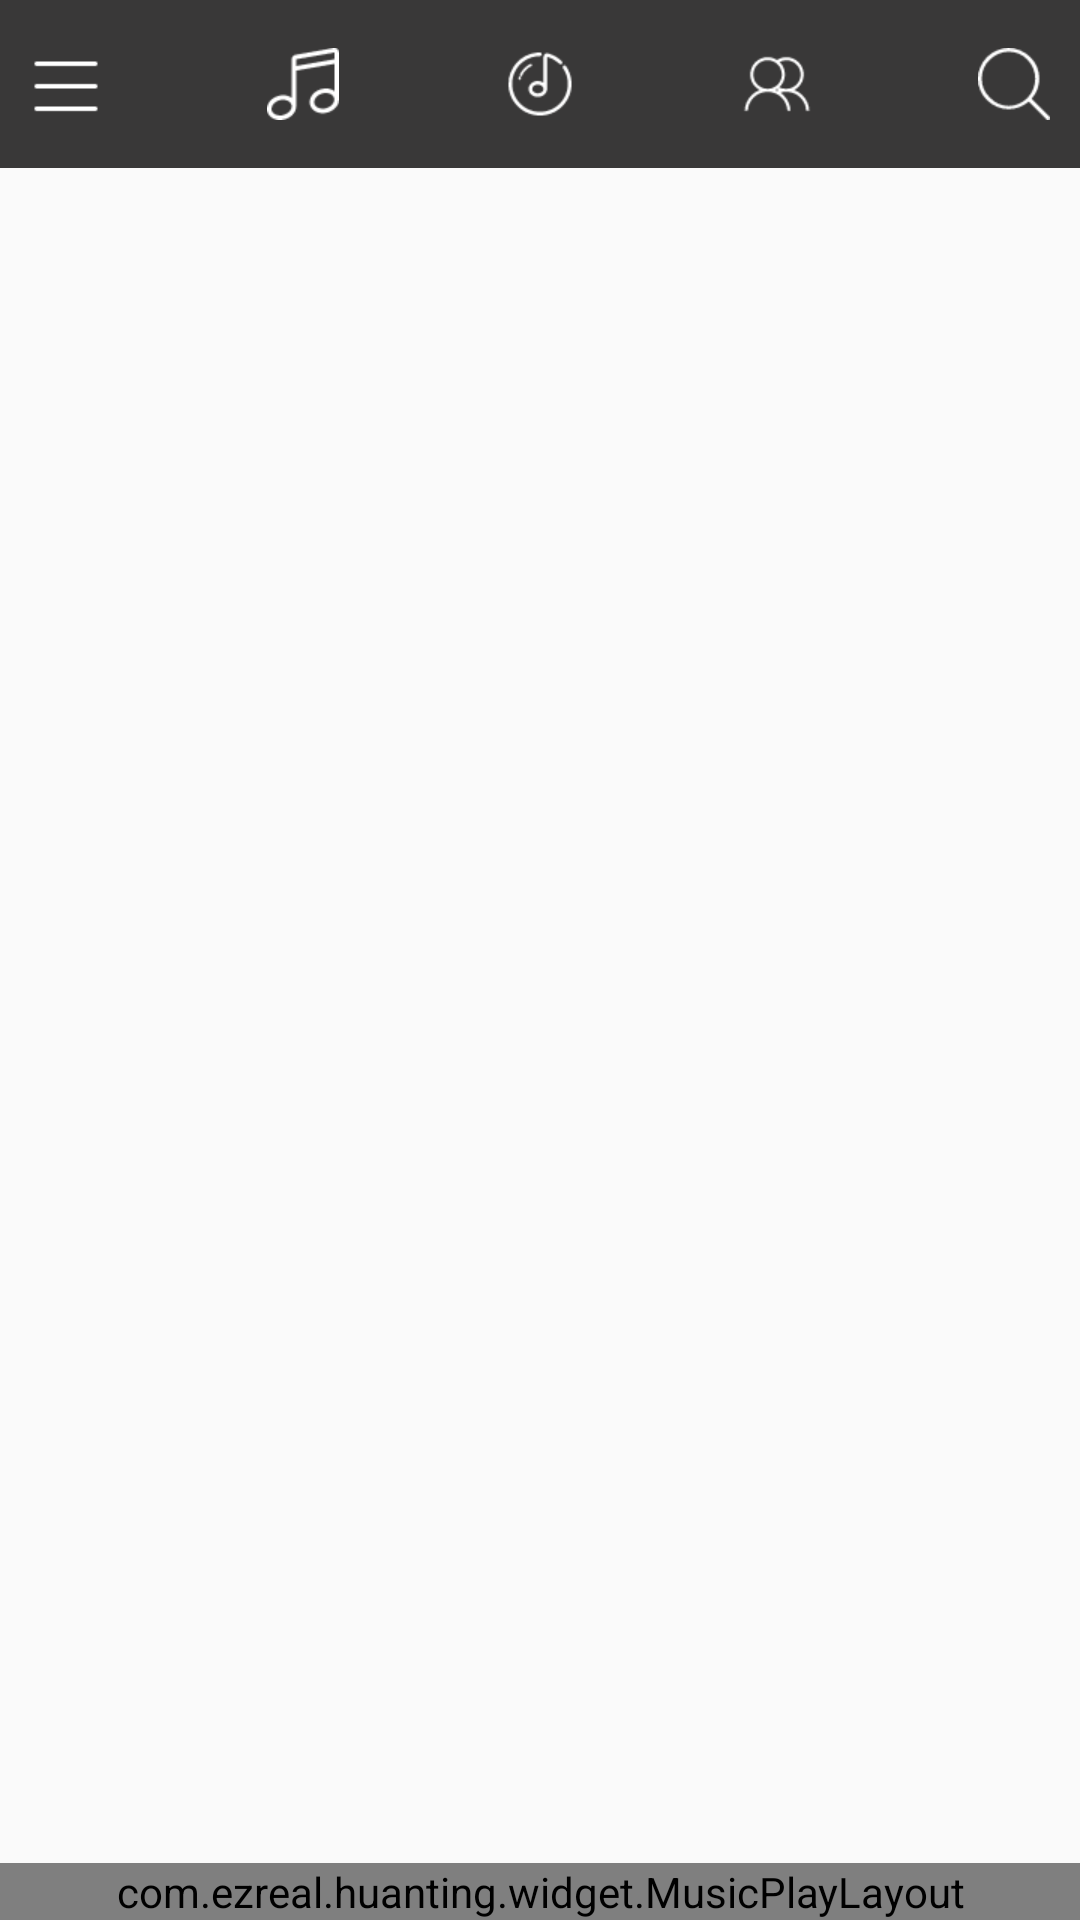

Icons on this 1080w x 1920h Android screen, each with the point to tap as (x=x, y=y):
local music: (x=303, y=84)
menu: (x=66, y=86)
online music: (x=540, y=84)
people: (x=777, y=84)
search: (x=1014, y=84)
